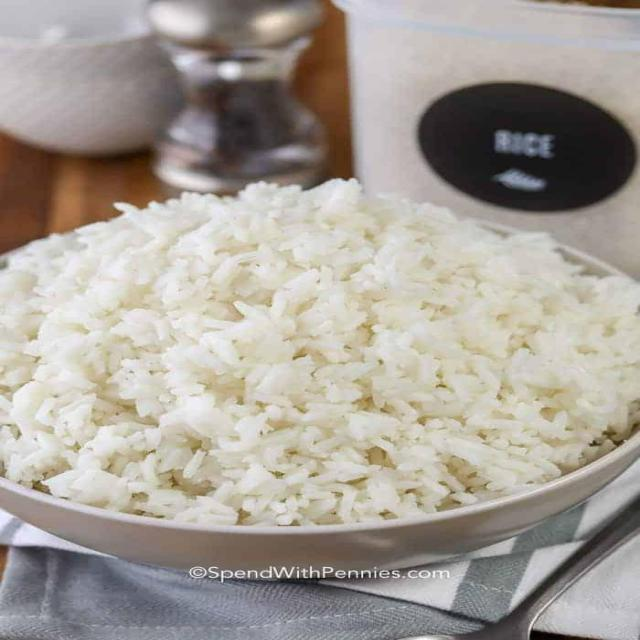rice: (1, 179, 640, 522)
